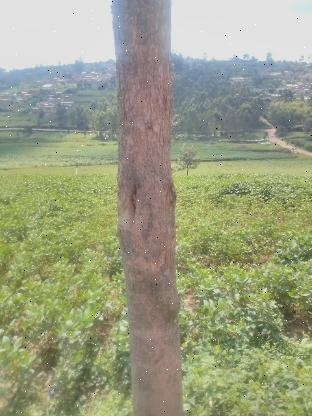tree: (113, 0, 182, 416)
